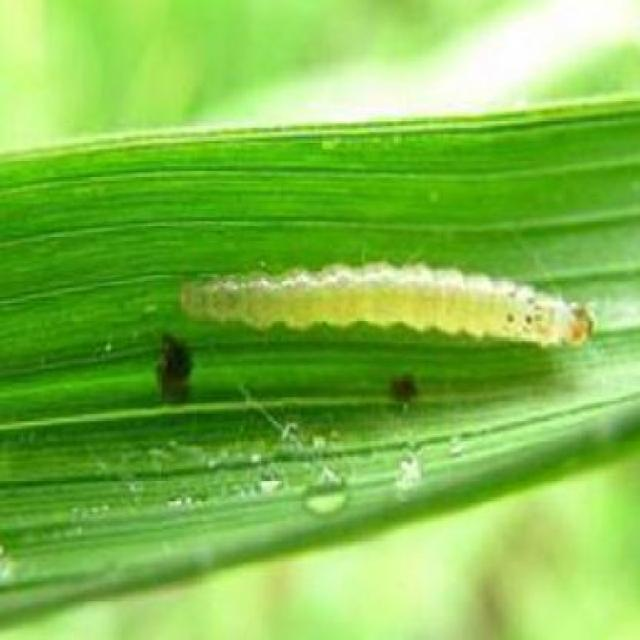leaf-folder: (191, 219, 640, 372)
